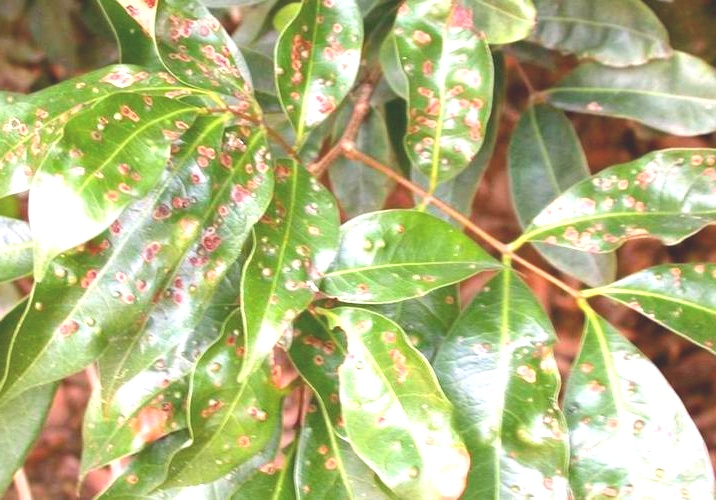Gall_Mite: (100, 30, 267, 222), (75, 223, 332, 344), (329, 231, 502, 409), (513, 357, 711, 479), (397, 11, 524, 174), (90, 362, 269, 457), (556, 130, 698, 246), (267, 11, 369, 162)
